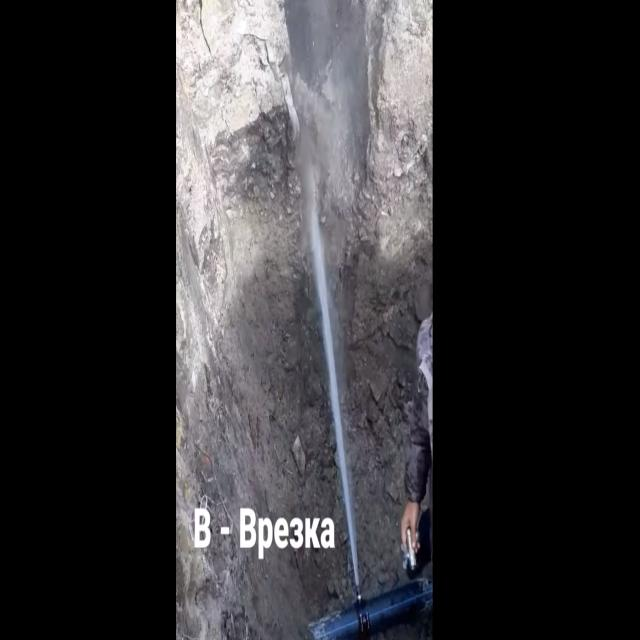leak: (309, 166, 361, 602)
